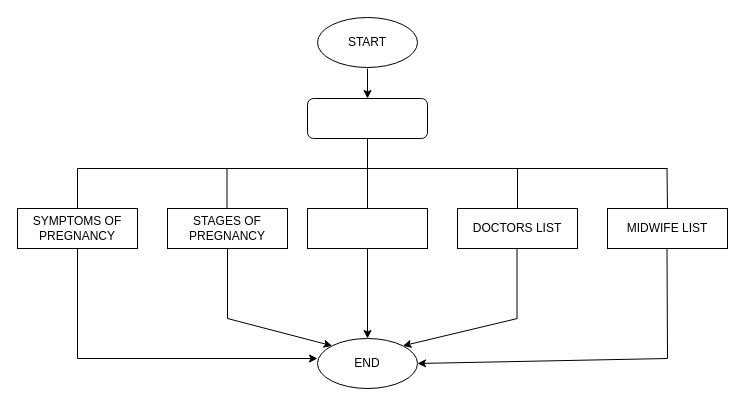
The diagram is 745 pixels wide and 406 high, and some of its shapes have lost their labels. Each missing label, with the centre of its shape:
PREGNANCY CARE: point 367,228
USER: point 367,118
